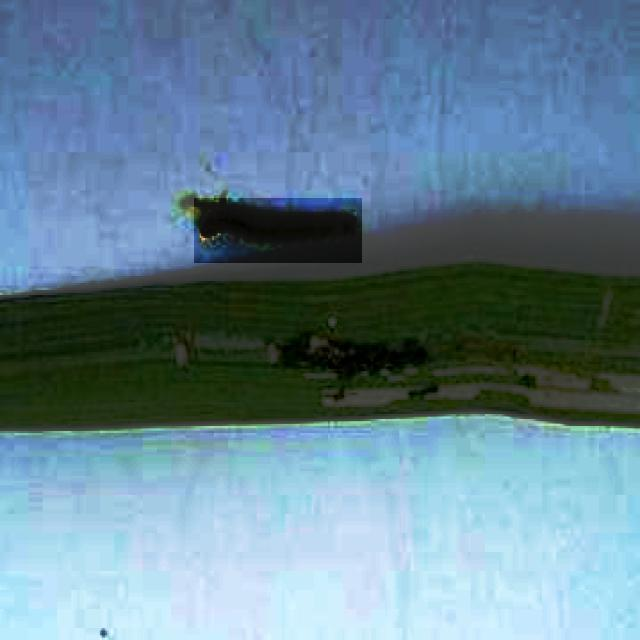leaf-folder: (195, 198, 363, 263)
